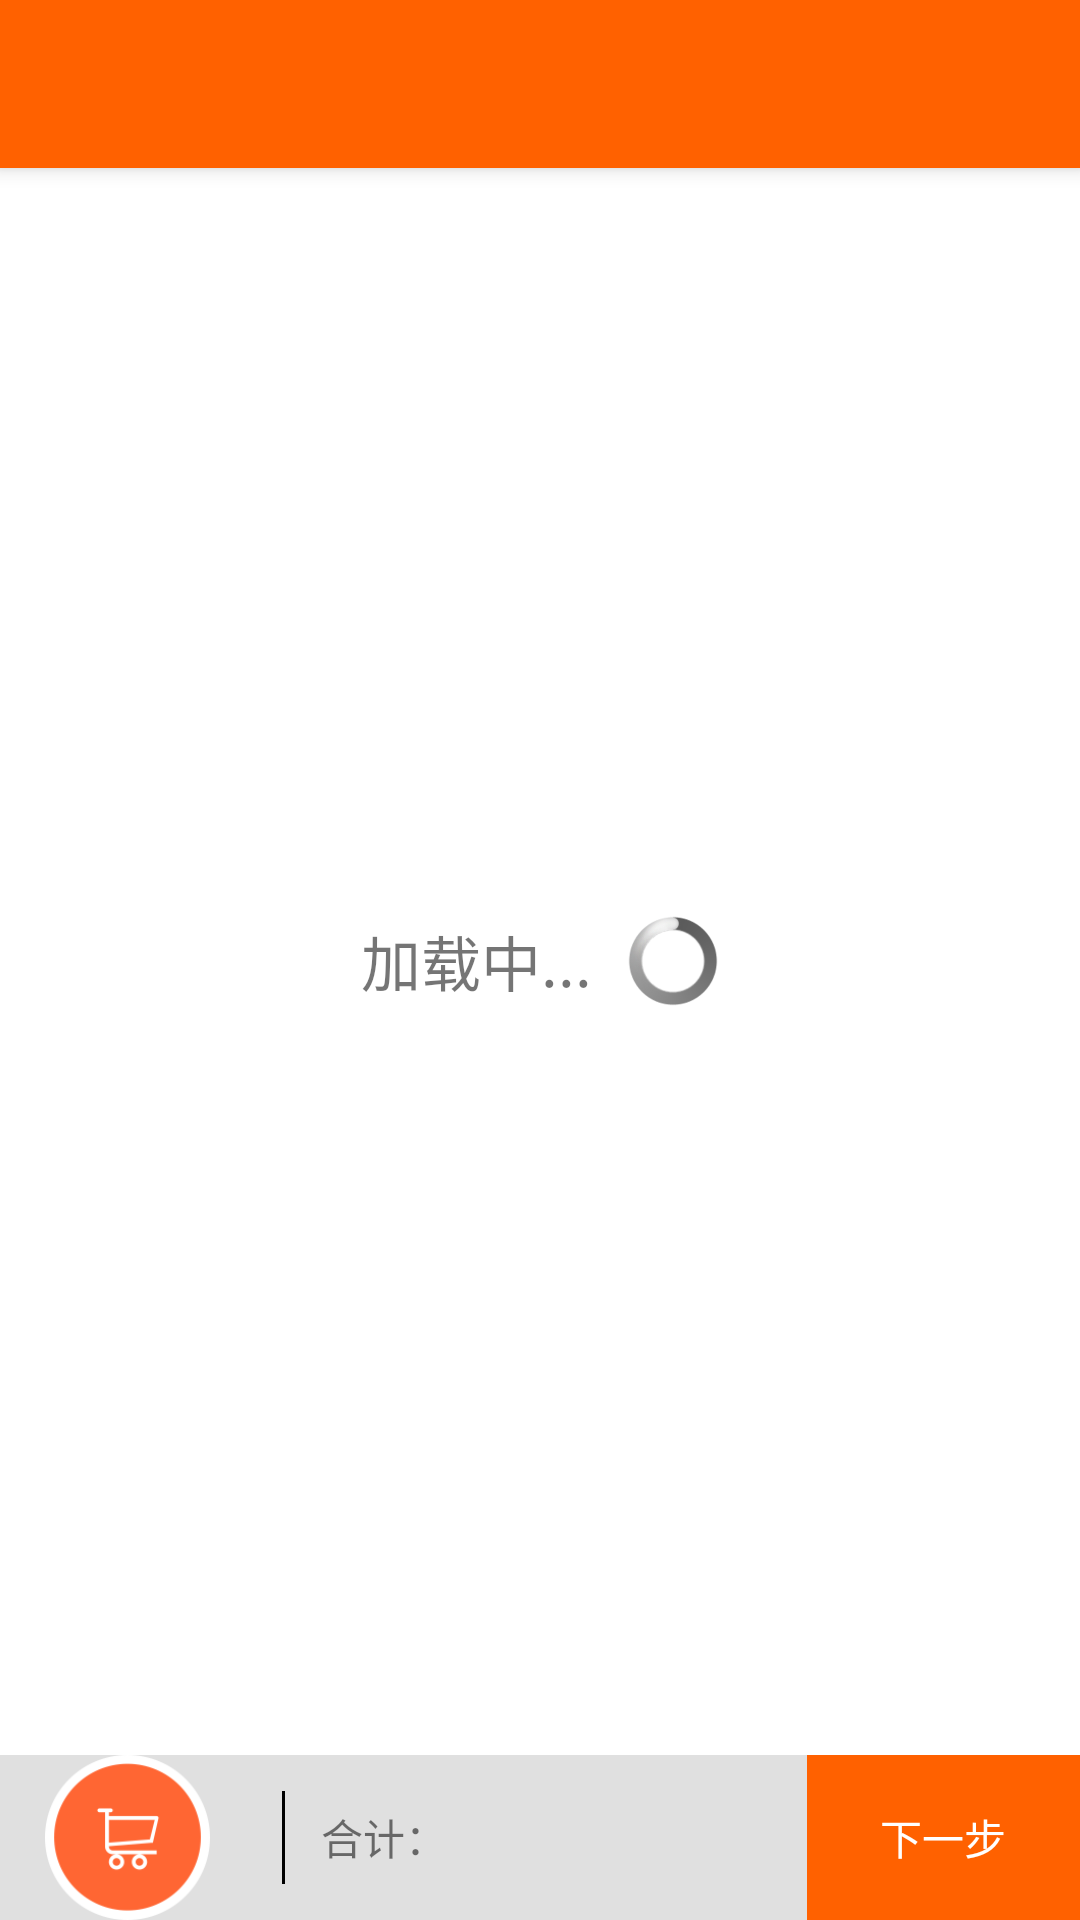

Icon bounding boxes for this 1080px x 1920px phone screenshot, format (x1, y1, x2, y2):
shoppingcart: (45, 1755, 210, 1920)
